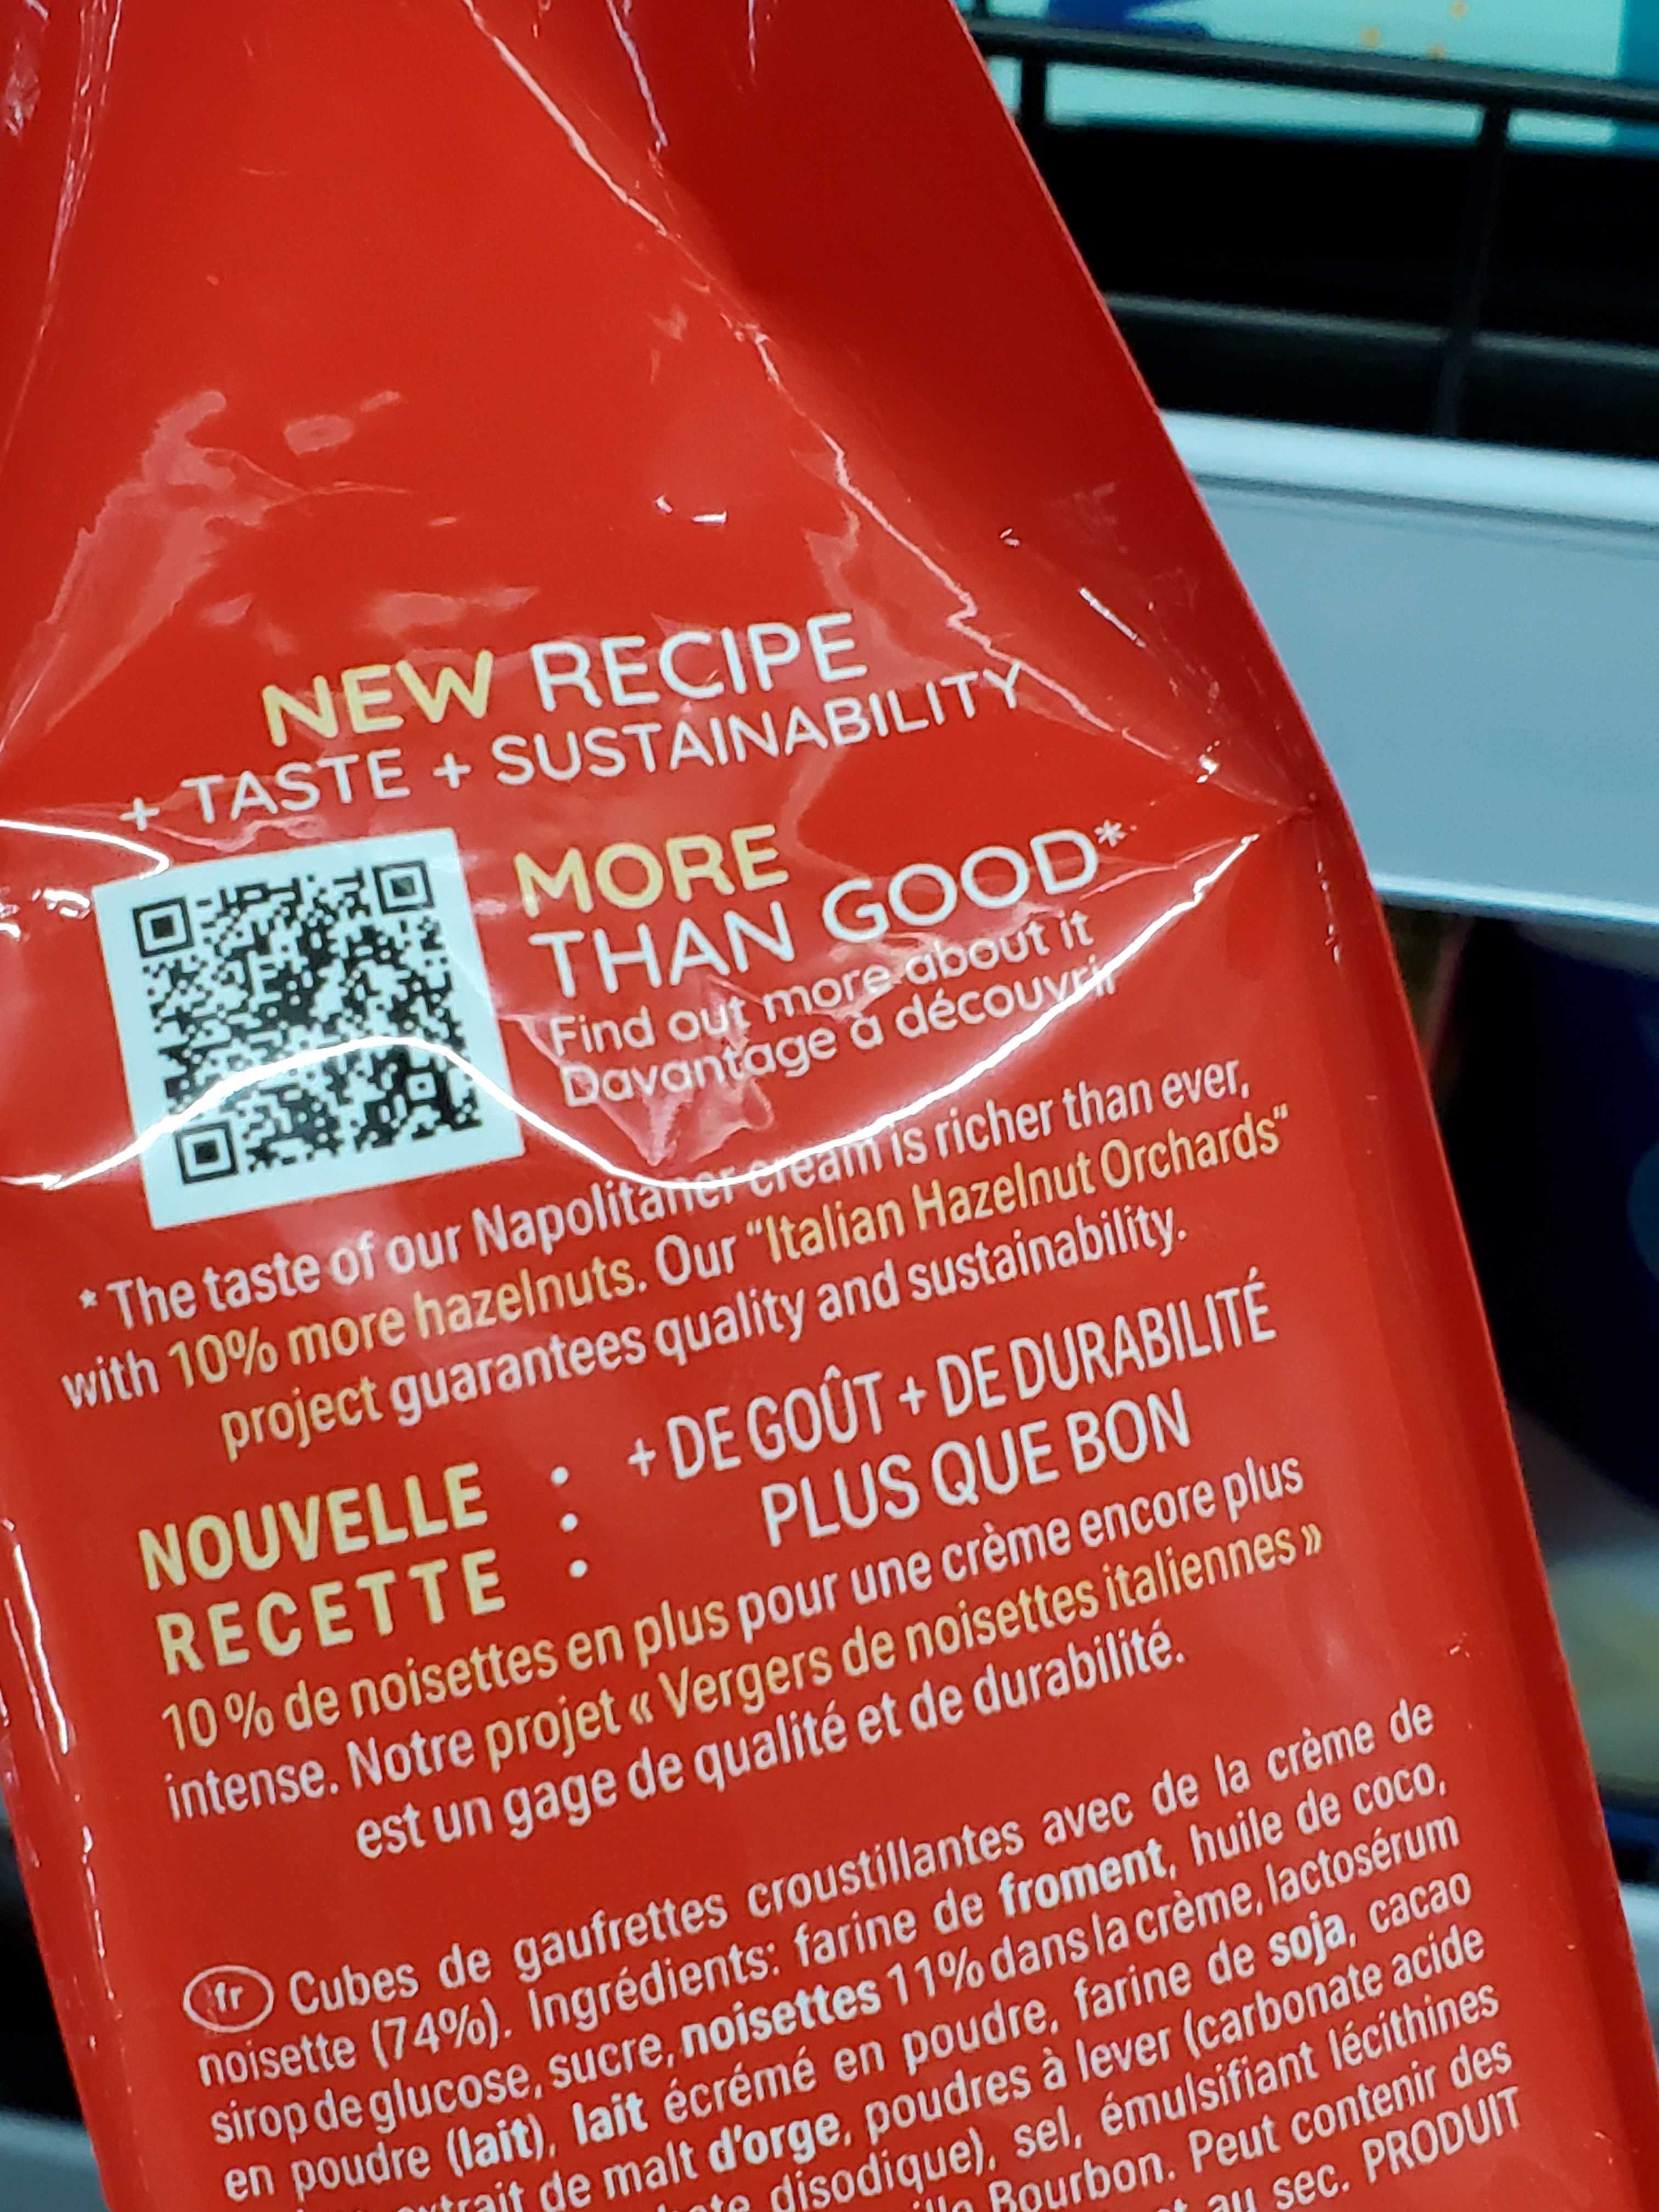qr code: (77, 836, 518, 1197)
